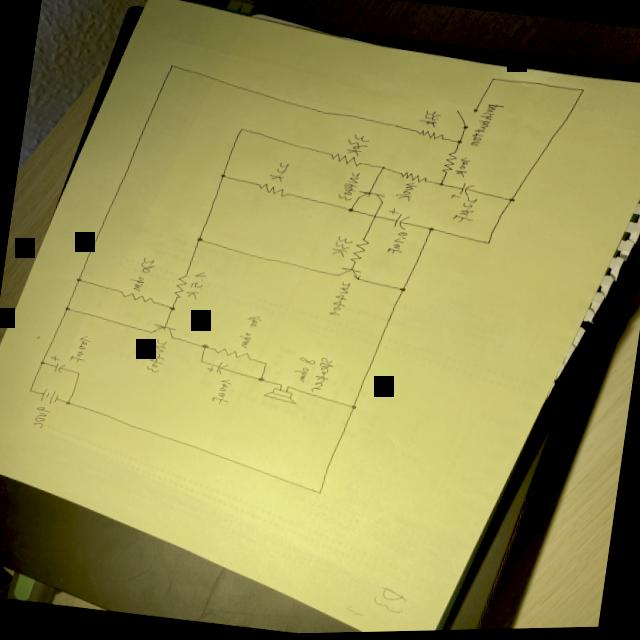capacitor: (386, 207, 412, 232), (450, 180, 476, 203), (48, 353, 68, 374), (206, 359, 230, 376)
crossover: (370, 213, 379, 221)
junction: (167, 304, 177, 313), (426, 226, 436, 234), (314, 489, 324, 497), (398, 287, 407, 295), (218, 172, 228, 179), (348, 404, 358, 411), (256, 376, 266, 383), (62, 304, 72, 311), (236, 127, 246, 134), (200, 342, 208, 350), (168, 62, 176, 70), (455, 139, 463, 147), (346, 207, 355, 214), (507, 198, 516, 205), (196, 236, 204, 243), (74, 276, 82, 283), (64, 399, 72, 406), (38, 359, 46, 365), (380, 165, 388, 171), (578, 89, 586, 95), (489, 77, 496, 83), (438, 182, 445, 188), (198, 358, 205, 364), (28, 387, 34, 393), (262, 361, 268, 367), (485, 241, 491, 246), (75, 371, 81, 376), (286, 385, 290, 390), (279, 383, 283, 387)
resistor: (255, 180, 291, 200), (212, 345, 252, 362), (350, 237, 371, 265), (120, 289, 156, 305), (329, 152, 363, 168), (172, 272, 190, 298), (414, 128, 445, 143), (441, 151, 458, 177), (398, 171, 429, 185)
source: (40, 386, 60, 405)
switch: (452, 106, 480, 133)
text: (469, 102, 505, 152), (236, 313, 263, 351), (310, 356, 336, 395), (130, 254, 156, 292), (328, 281, 352, 319), (451, 195, 479, 227), (145, 338, 168, 374), (337, 170, 361, 203), (185, 269, 208, 302), (70, 331, 92, 364), (344, 133, 371, 159), (292, 356, 316, 385), (210, 376, 233, 406), (386, 230, 409, 258), (331, 234, 354, 260), (394, 181, 418, 205), (268, 161, 293, 184), (418, 109, 442, 131), (32, 404, 52, 428), (454, 157, 472, 180)
transistor: (148, 320, 178, 340), (356, 190, 387, 206), (336, 266, 364, 283)
